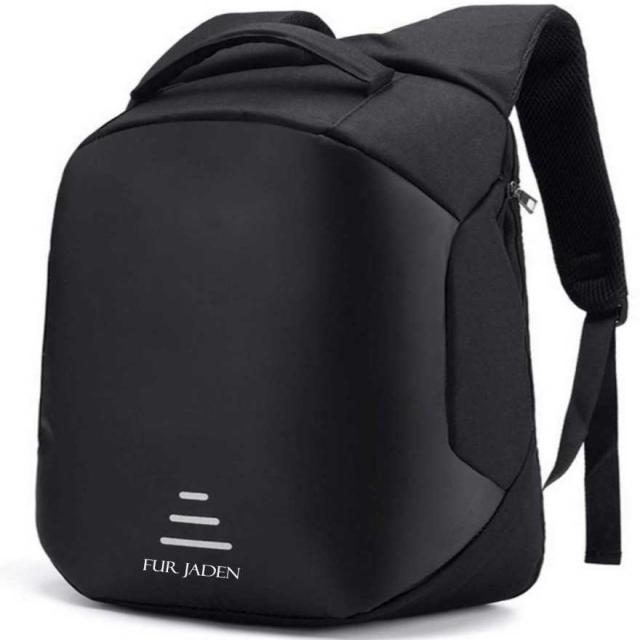backpack: (36, 4, 630, 629)
